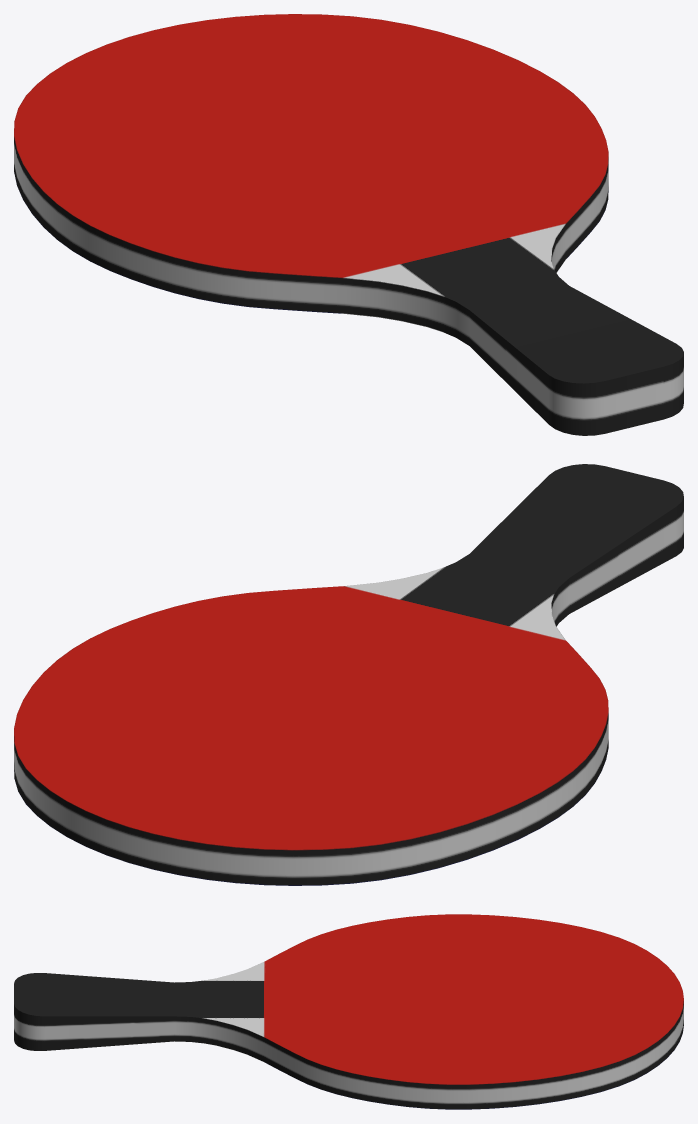
The model's file is racket6.glb.
3 renders of one model, top to bottom at view 1: azimuth 30°, elevation 25°; view 2: azimuth 150°, elevation 25°; view 3: azimuth 270°, elevation 25°, orthographic. The views are drawn at different scales.
Parts seen in each view (by area): view 1: Circle; view 2: Circle; view 3: Circle.
Boxes of the visible parts, x1=… form: Circle: x1=14, y1=14, x2=683, y2=435; Circle: x1=14, y1=464, x2=683, y2=885; Circle: x1=14, y1=914, x2=683, y2=1109.
Bounding box in the file's own units: 1.64 × 0.166 × 2.74.
Materials: 1 (1 with a texture image).
